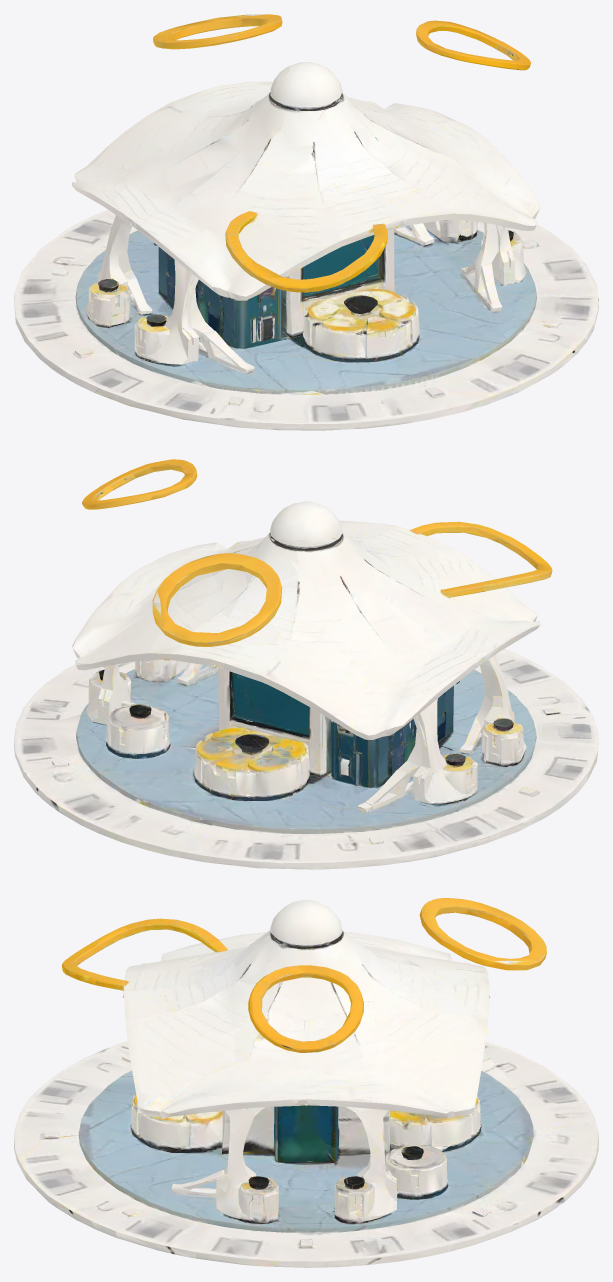
File: bld-holo-market-v2.glb
The picture shows the model from 3 angles, top to bottom: view 1: azimuth 30°, elevation 25°; view 2: azimuth 150°, elevation 25°; view 3: azimuth 270°, elevation 25°; orthographic projection.
Parts seen in each view (by area): view 1: Mesh_0; view 2: Mesh_0; view 3: Mesh_0.
Part boxes in pixels (bbox=[...]): Mesh_0: bbox=[14, 14, 598, 430]; Mesh_0: bbox=[14, 459, 598, 869]; Mesh_0: bbox=[14, 898, 598, 1267].
Bounding box in the file's own units: 1.9 × 0.8647 × 1.9.
1 material, 1 textured.
